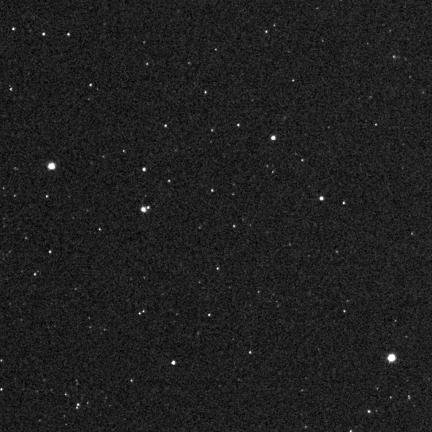blob: (388, 354, 396, 362), (271, 136, 277, 141)
